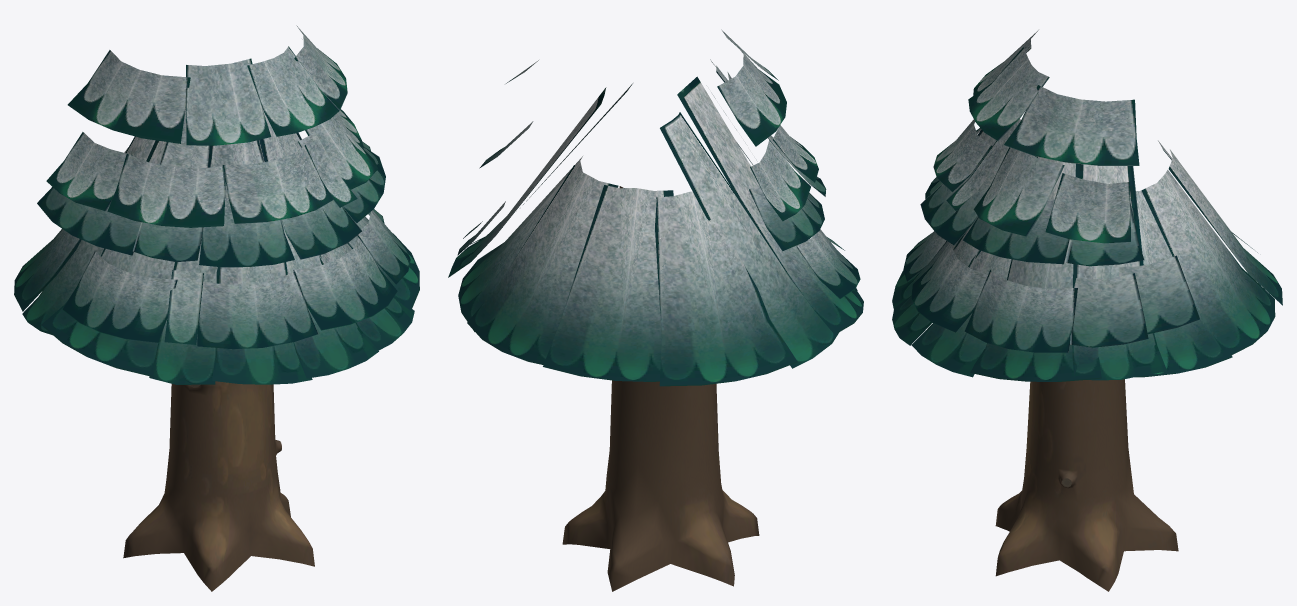
File: tree-cedar-snow.glb
3 renders of one model, left to right at view 1: azimuth 30°, elevation 25°; view 2: azimuth 150°, elevation 25°; view 3: azimuth 270°, elevation 25°, orthographic. The views are drawn at different scales.
Parts seen in each view (by area): view 1: DDLeafS_L13_1__mPltTreeCedarLeafSnow, group135_pCone23__mTreeCedarTrunkSnow; view 2: DDLeafS_L13_1__mPltTreeCedarLeafSnow, group135_pCone23__mTreeCedarTrunkSnow; view 3: DDLeafS_L13_1__mPltTreeCedarLeafSnow, group135_pCone23__mTreeCedarTrunkSnow.
Part boxes in pixels (x1=…): DDLeafS_L13_1__mPltTreeCedarLeafSnow: x1=14, y1=25, x2=419, y2=384; group135_pCone23__mTreeCedarTrunkSnow: x1=123, y1=381, x2=314, y2=591; DDLeafS_L13_1__mPltTreeCedarLeafSnow: x1=448, y1=29, x2=863, y2=386; group135_pCone23__mTreeCedarTrunkSnow: x1=562, y1=186, x2=759, y2=591; DDLeafS_L13_1__mPltTreeCedarLeafSnow: x1=892, y1=30, x2=1282, y2=381; group135_pCone23__mTreeCedarTrunkSnow: x1=995, y1=379, x2=1178, y2=591.
Bounding box in the file's own units: 2.17 × 2.94 × 2.06.
Materials: 2 (2 with a texture image).
